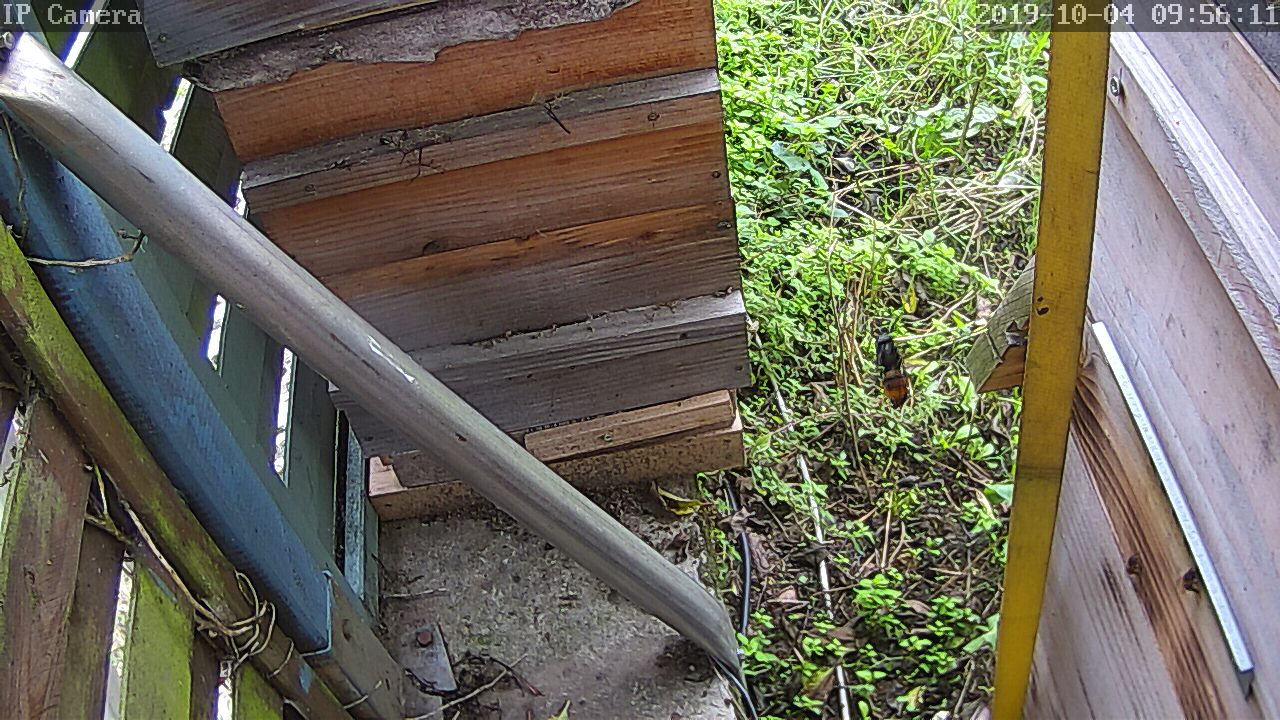bee: (1174, 557, 1203, 600), (1123, 552, 1147, 577)
hornet: (868, 332, 920, 407)
